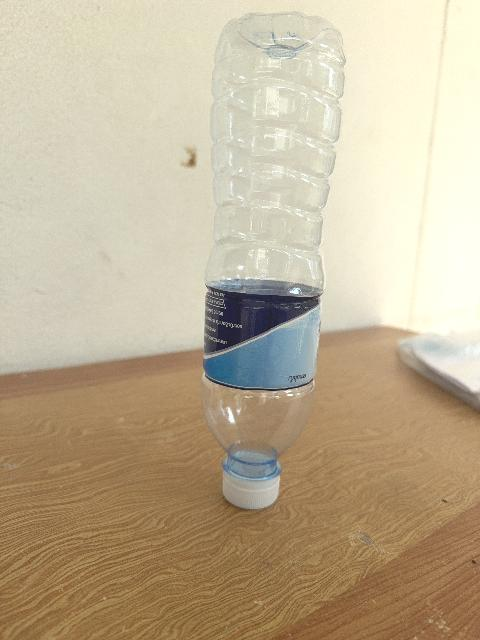bottle: (201, 13, 343, 508)
